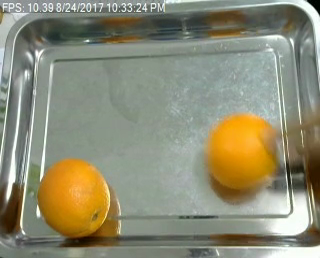Orange: (205, 112, 282, 191), (38, 158, 111, 237)
